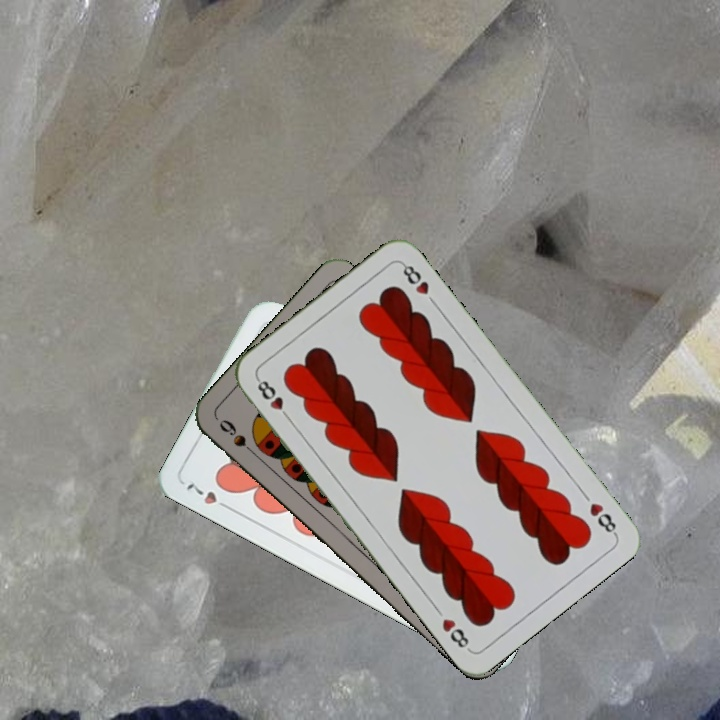H7: (182, 475, 235, 514)
H8: (253, 374, 295, 424), (584, 499, 620, 538)
S9: (215, 415, 262, 461)
